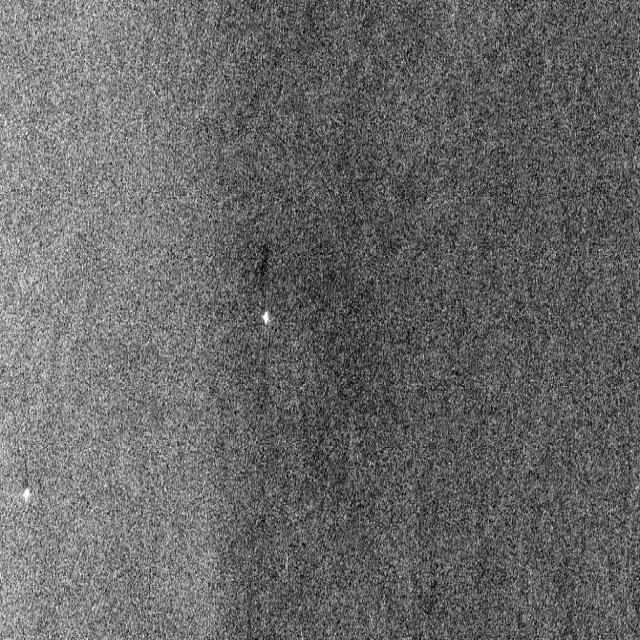oil-spill: (252, 241, 270, 307)
ship: (21, 480, 32, 507), (261, 308, 272, 328)
